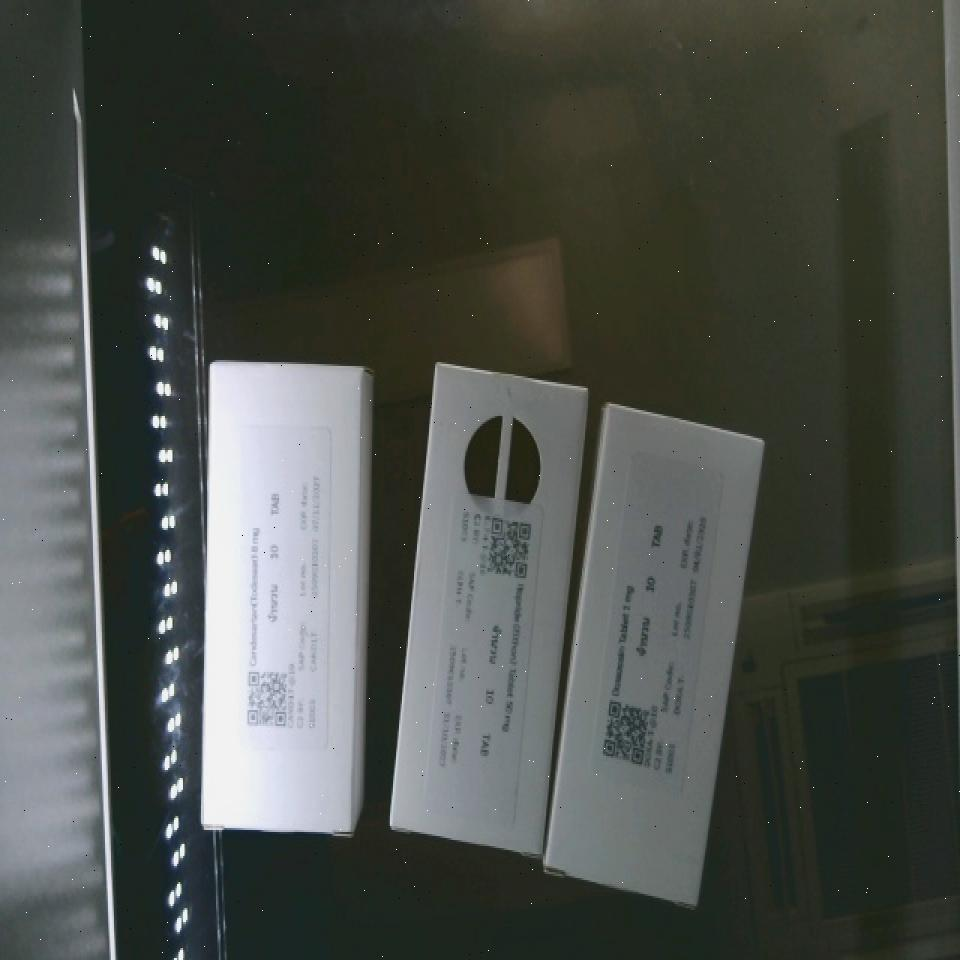medicine_box: (541, 404, 763, 910), (391, 361, 588, 860), (198, 359, 364, 828)
qr_code: (590, 681, 667, 788), (474, 499, 545, 596), (241, 658, 295, 741)
